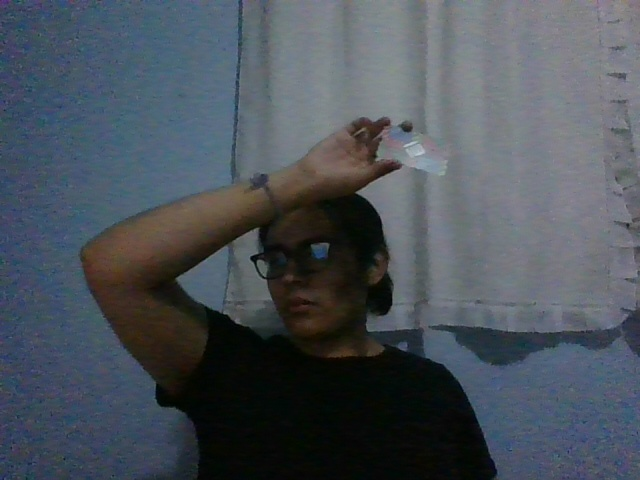tarjeta: (375, 125, 451, 176)
